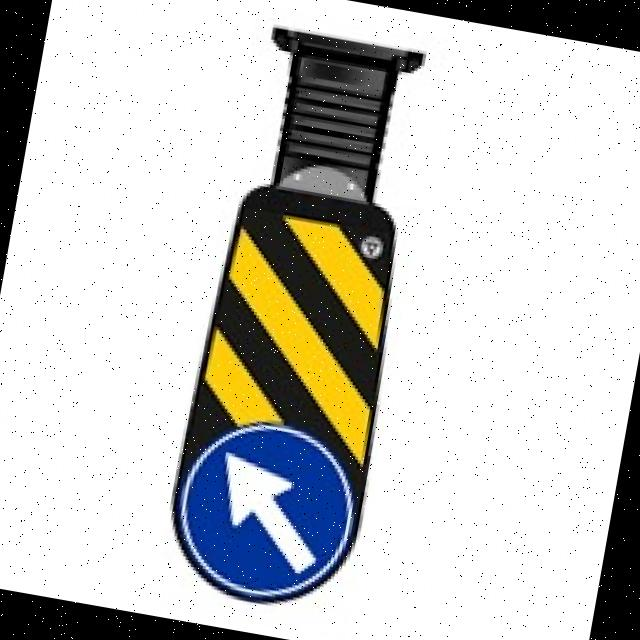compulsory_keep_right: (160, 408, 367, 616)
